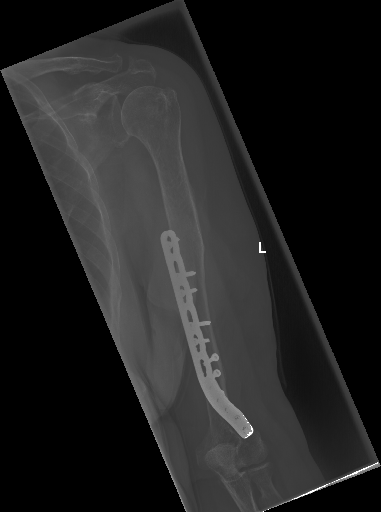implant: (151, 225, 258, 448)
